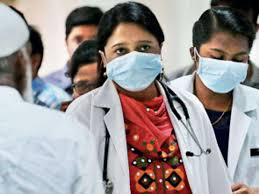mask: (93, 3, 163, 93), (190, 11, 249, 94)
